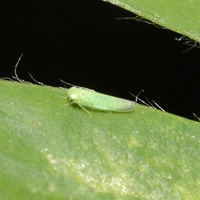insect: (60, 79, 150, 115)
